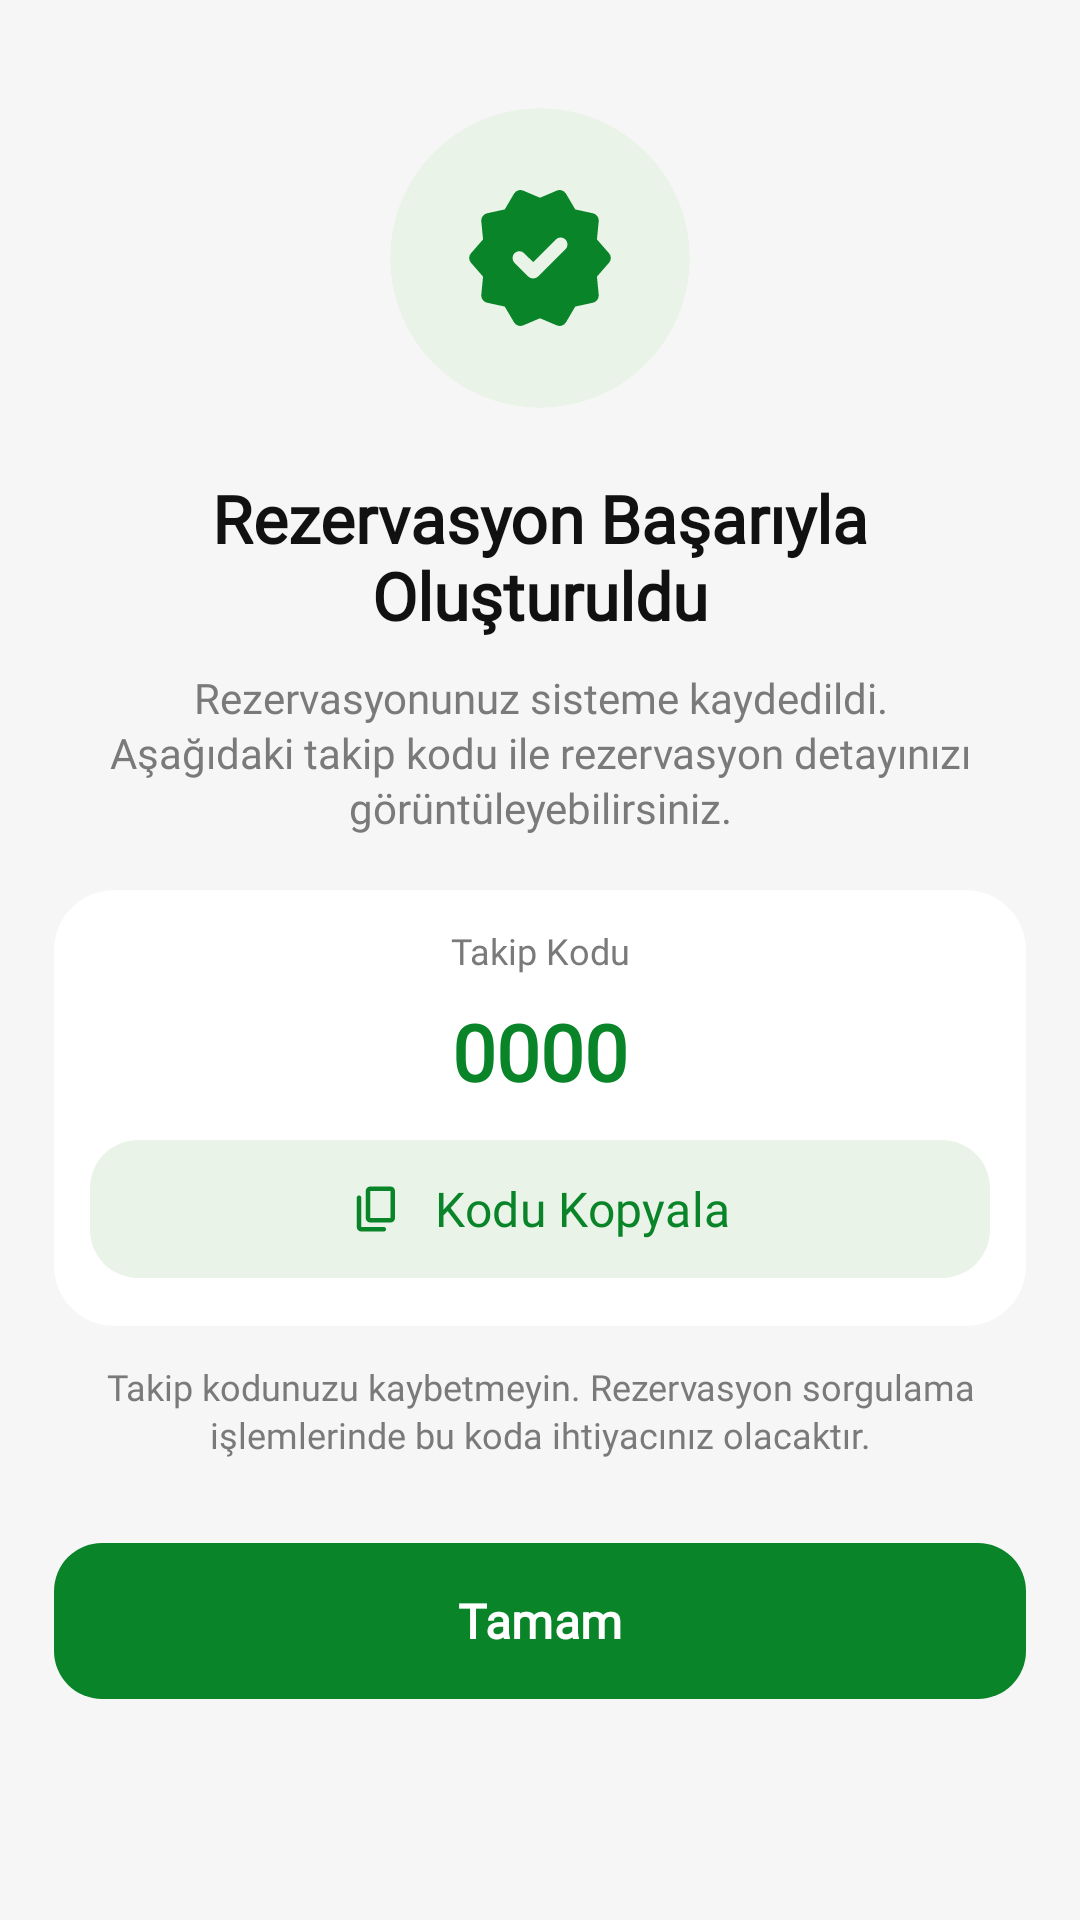

Icons on this 1080px×1920px Android screen, each with the point to tap as (x=x, y=y):
verified: (x=540, y=258)
